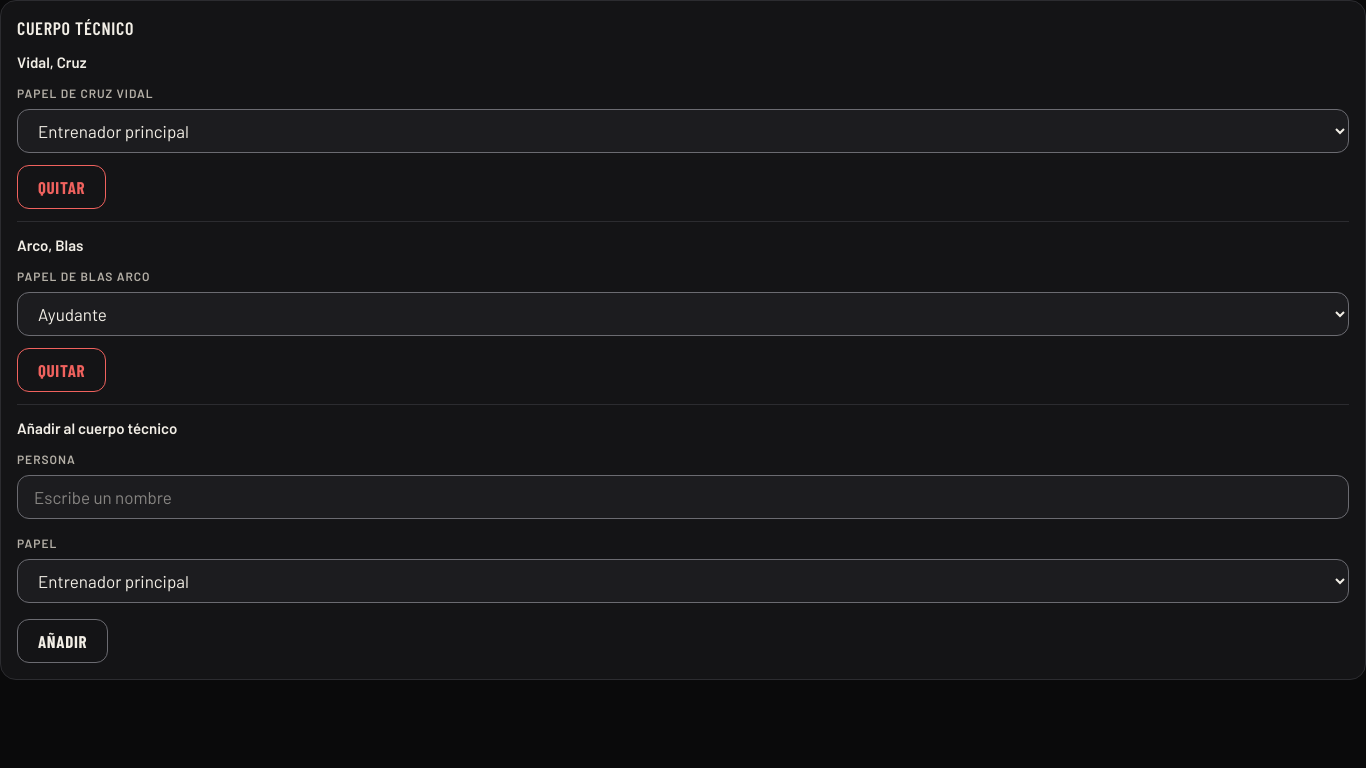
Test: StaffSection · añadir › añade a la persona elegida con el papel elegido
Type "vega" into the search field labelled "Persona".
click(683, 497); type("vega")  # box [17, 475, 1349, 519]
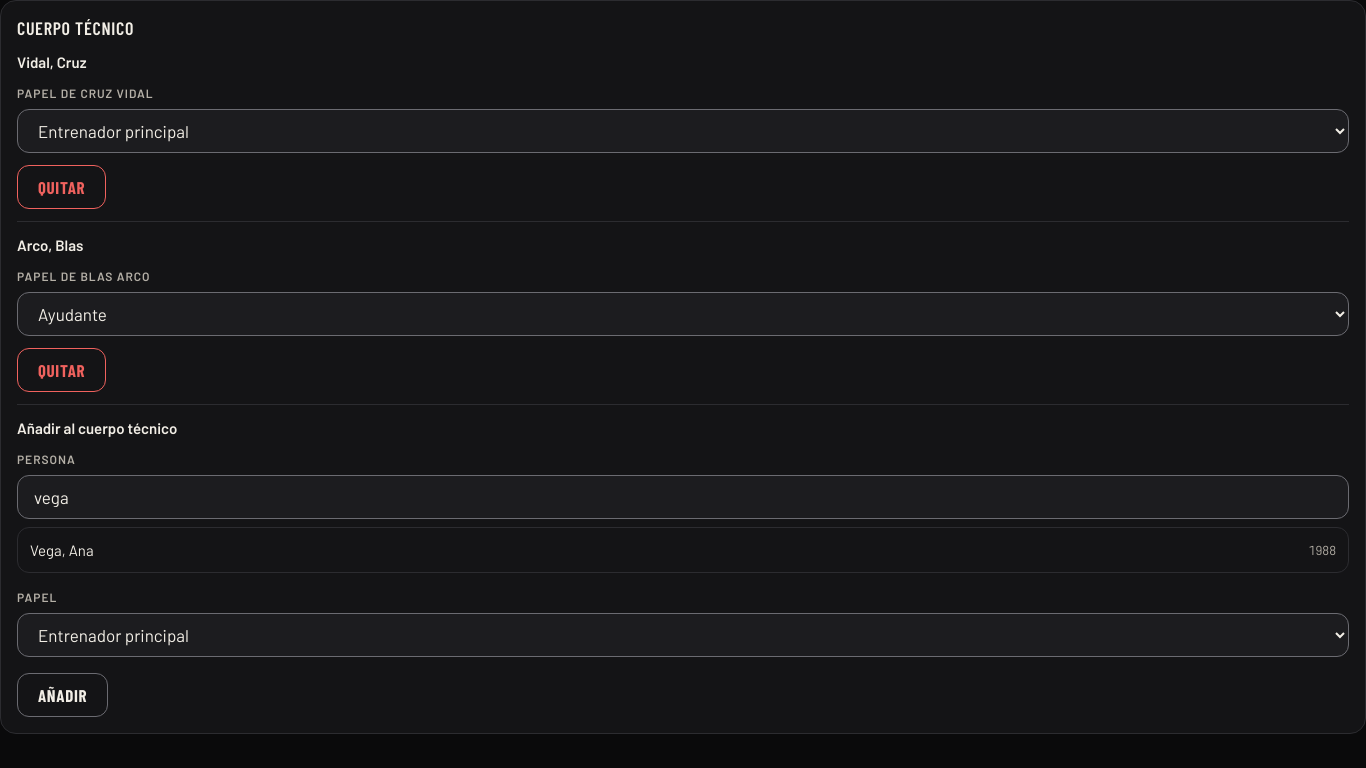
Click the button "Vega, Ana 1988".
click(62, 550)  # box [18, 528, 1348, 572]
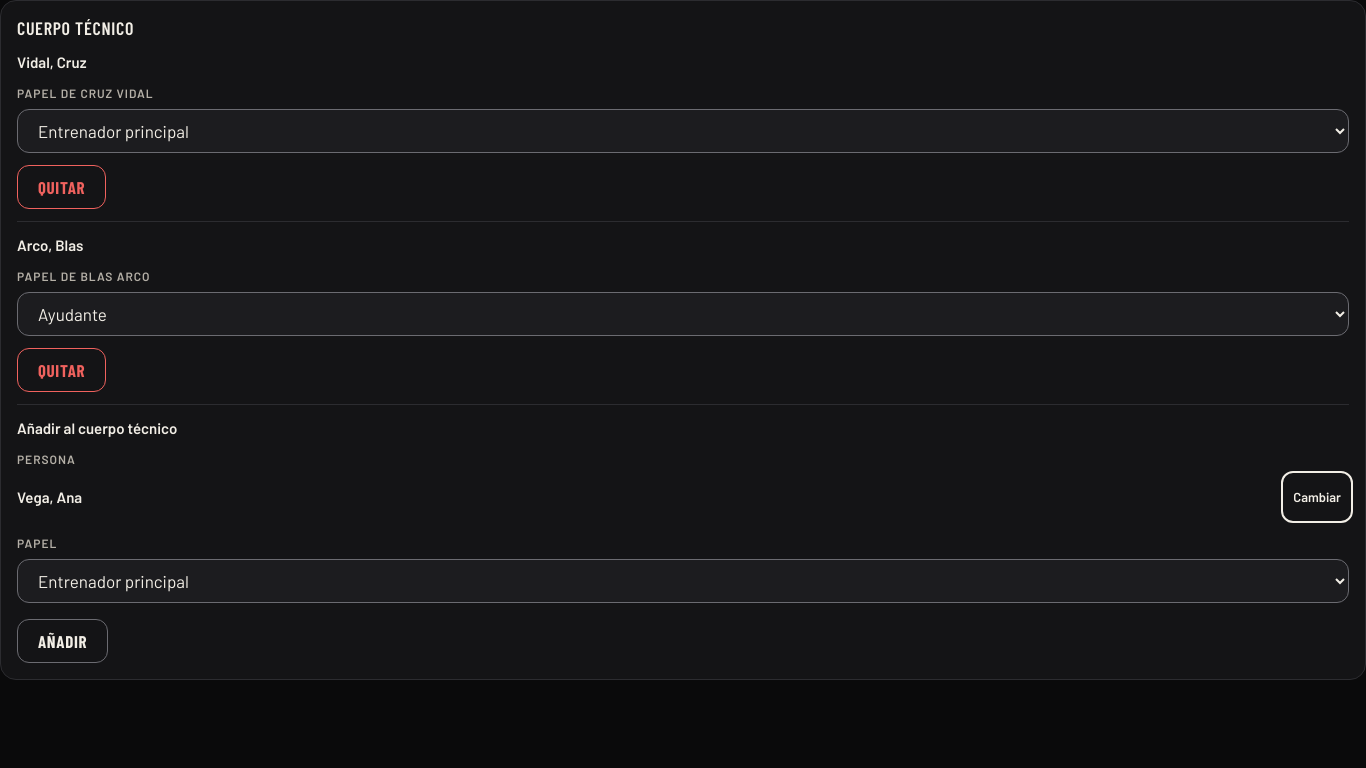
Select "Ayudante" in the dropdown labelled "Papel" at (683, 581), box [17, 559, 1349, 603]
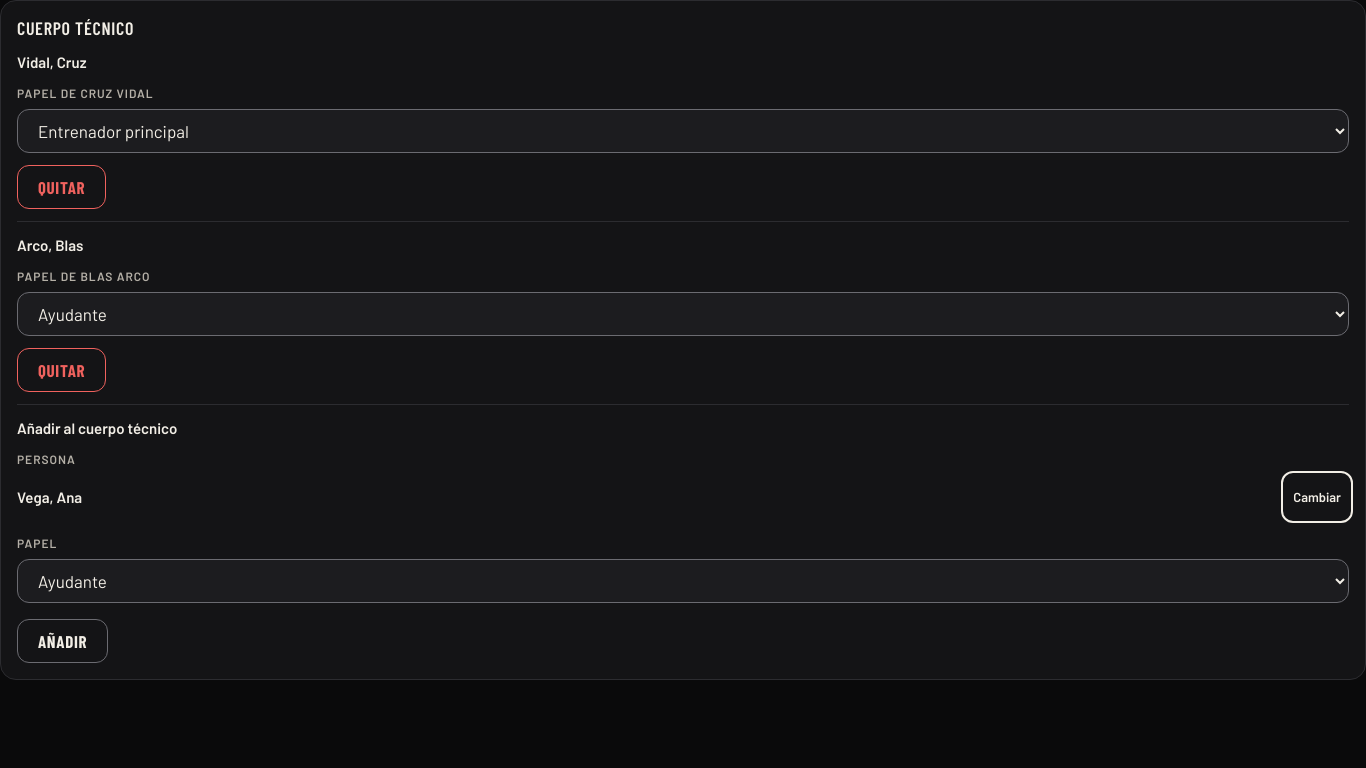
Click the button "Añadir".
click(63, 641)  # box [17, 619, 108, 663]
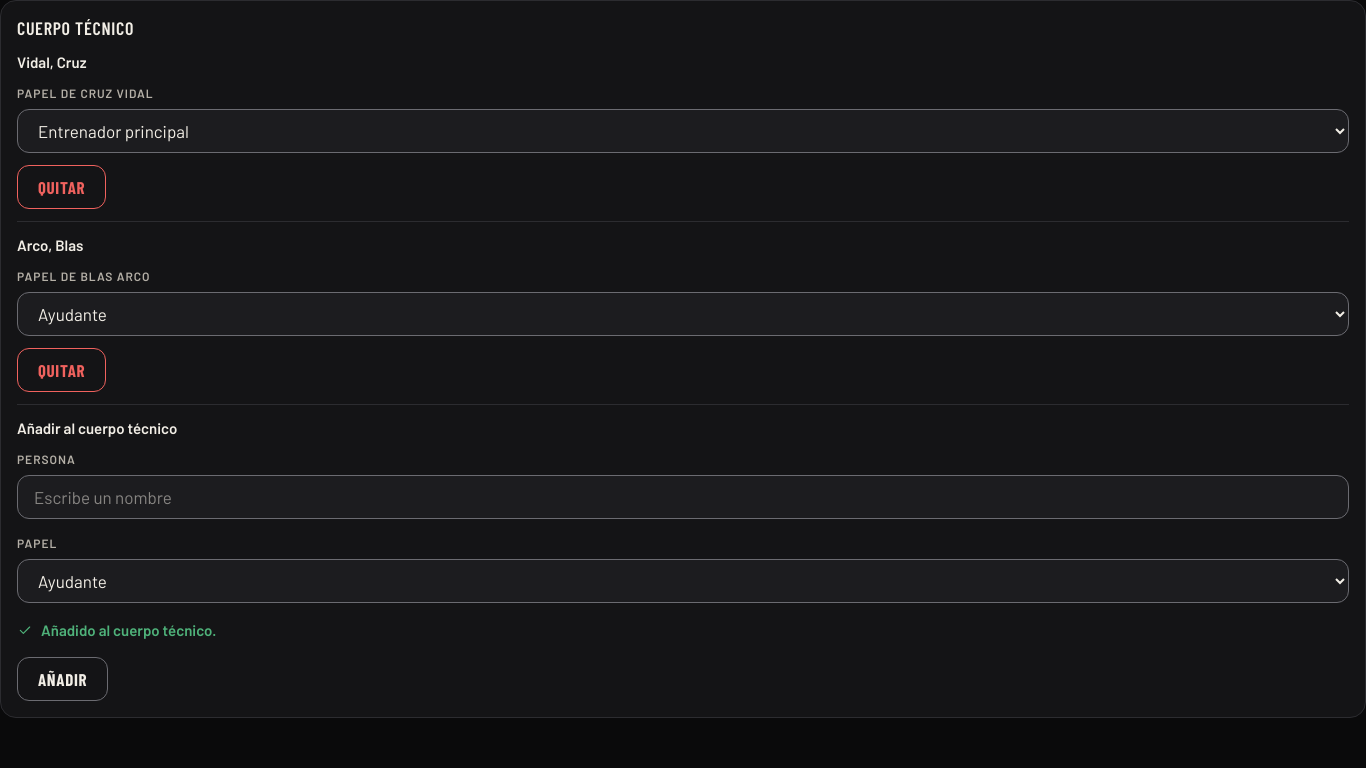
Now the text "Añadido al cuerpo técnico." is shown, box [17, 621, 216, 639]
